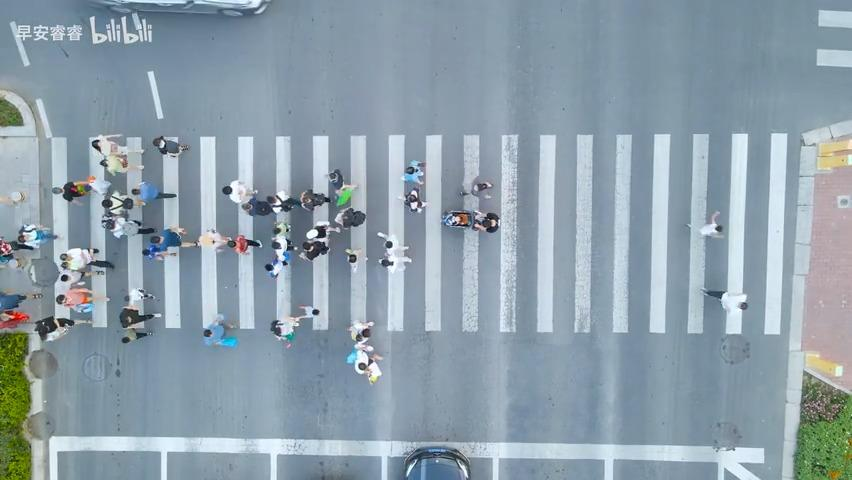Civilian: (345, 319, 384, 385), (295, 228, 335, 269), (58, 242, 106, 276), (33, 315, 93, 342), (51, 174, 99, 207), (47, 285, 111, 309), (88, 136, 151, 160), (97, 213, 149, 241), (217, 177, 261, 210), (92, 156, 152, 180), (442, 209, 499, 233), (700, 286, 748, 313), (377, 231, 411, 268), (133, 243, 177, 271), (116, 284, 159, 312), (255, 259, 297, 287), (202, 314, 237, 347), (685, 209, 724, 238), (267, 222, 297, 259), (114, 304, 162, 327), (129, 181, 181, 202), (269, 315, 301, 348), (397, 155, 428, 188), (14, 222, 60, 244), (153, 222, 188, 250), (292, 299, 328, 324), (0, 235, 37, 259), (331, 205, 366, 230), (397, 187, 428, 214), (152, 135, 190, 157), (101, 191, 145, 210), (265, 191, 299, 215), (227, 231, 254, 260), (297, 184, 327, 210), (332, 180, 359, 208), (195, 229, 224, 255), (306, 220, 334, 243), (460, 180, 493, 198), (0, 313, 27, 334), (324, 164, 346, 187), (0, 291, 25, 311), (0, 190, 26, 208), (121, 328, 145, 347)
